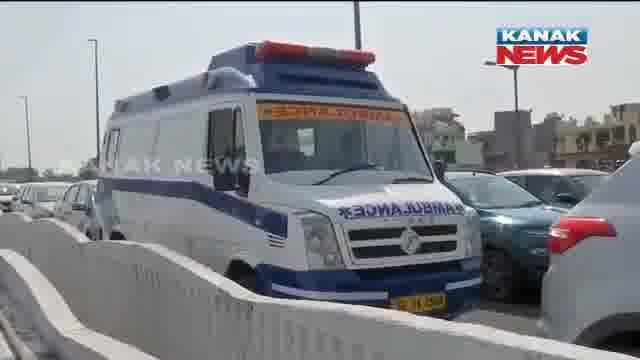AMBULANCE: (88, 34, 479, 319)
